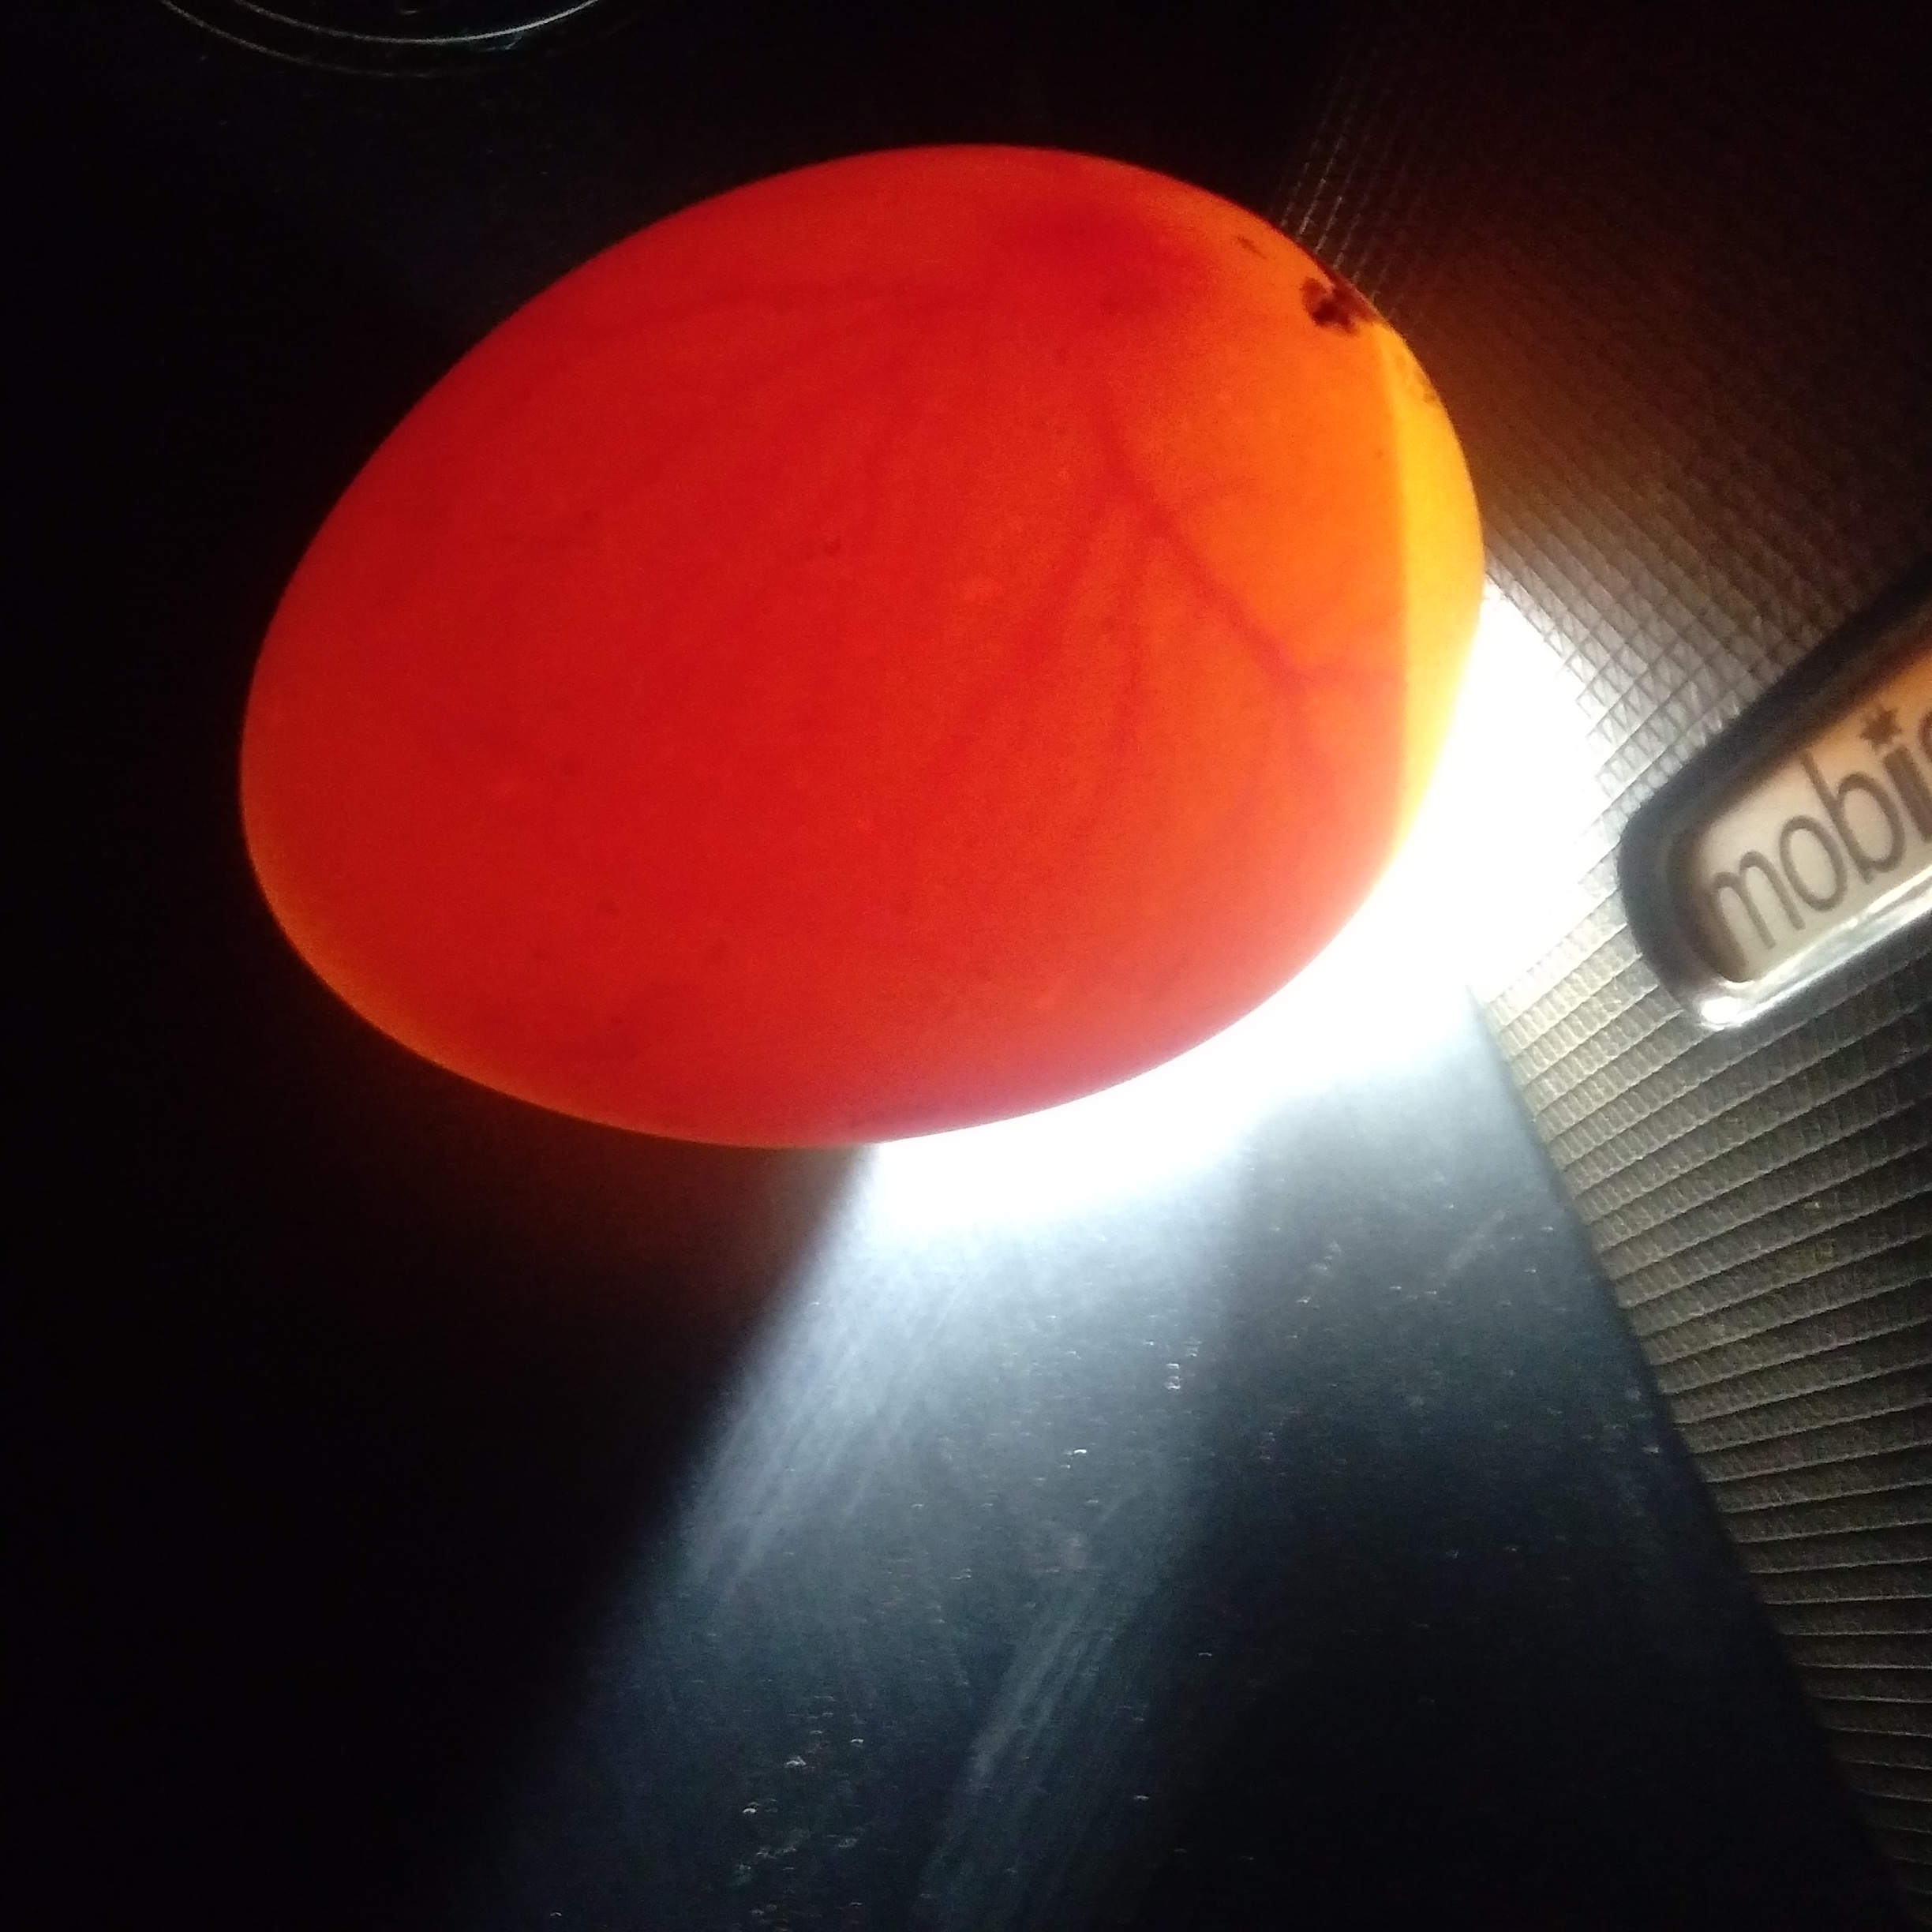bloodcell: (607, 311, 1035, 952), (1065, 377, 1325, 927)
embryo: (1028, 163, 1192, 301)
